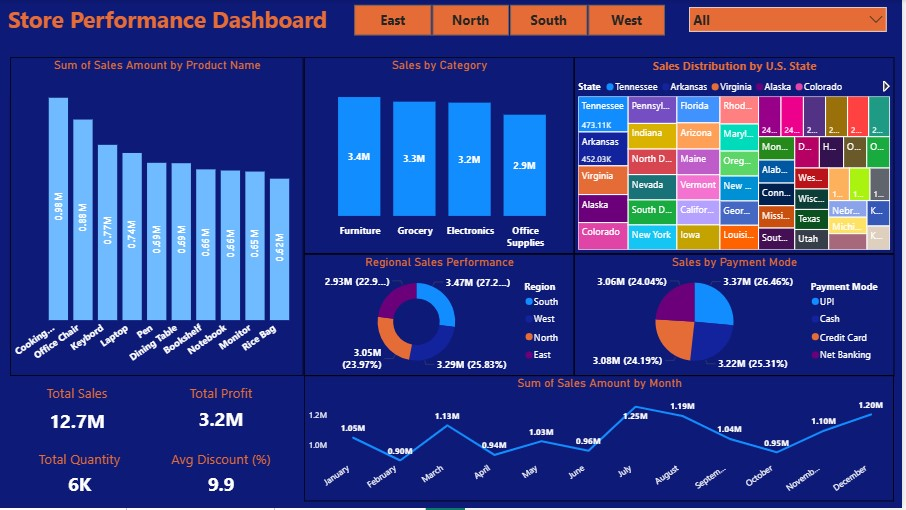

Layout of this report page (visuals, bound fields, positions):
{"tool":"powerbi","page":{"name":"Store Performance","canvas":[1280,720],"ordinal":0},"visuals":[{"type":"textbox","box":[0,0,477.6,56.7],"z":3000},{"type":"slicer","fields":{"Values":["Store_Management_System.Region"]},"box":[477.6,0,490.4,56.7],"z":4000},{"type":"slicer","fields":{"Values":["Store_Management_System.Delivery Status"]},"box":[968,0,300.5,58.1],"z":5000},{"type":"clusteredColumnChart","title":"Sales by Category","fields":{"Category":["Store_Management_System.Category"],"Y":["Sum(Store_Management_System.Sales Amount)"]},"box":[432.3,80.8,382.7,279.2],"z":6000},{"type":"treemap","title":"Sales Distribution by U.S. State","fields":{"Group":["Store_Management_System.State"],"Values":["Sum(Store_Management_System.Sales Amount)"]},"box":[815,80.8,453.5,279.2],"z":7000},{"type":"pieChart","title":"Sales by Payment Mode","fields":{"Category":["Store_Management_System.Payment Mode"],"Y":["Sum(Store_Management_System.Sales Amount)"]},"box":[815,360,453.5,172.9],"z":8000},{"type":"donutChart","title":"Regional Sales Performance","fields":{"Category":["Store_Management_System.Region"],"Y":["Sum(Store_Management_System.Sales Amount)"]},"box":[432.3,360,382.7,172.9],"z":9000},{"type":"lineChart","fields":{"Category":["Store_Management_System.Order Date.Variation.Date Hierarchy.Month"],"Y":["Sum(Store_Management_System.Sales Amount)"]},"box":[432.3,531.5,836.2,178.6],"z":10000},{"type":"clusteredColumnChart","fields":{"Category":["Store_Management_System.Product Name"],"Y":["Sum(Store_Management_System.Sales Amount)"]},"box":[15.7,80.1,416.2,451.9],"z":11000},{"type":"card","title":"Total Sales","fields":{"Values":["Sum(Store_Management_System.Sales Amount)"]},"box":[15.6,544.3,189.9,80.8],"z":12000},{"type":"card","title":"Total Profit","fields":{"Values":["Sum(Store_Management_System.Profit)"]},"box":[215.4,544.3,198.4,76.5],"z":13000},{"type":"card","title":"Total Quantity","fields":{"Values":["Sum(Store_Management_System.Quantity)"]},"box":[0,637.8,228.2,72.3],"z":14000},{"type":"card","title":"Avg Discount (%)","fields":{"Values":["Avg(Store_Management_System.Discount (%))"]},"box":[215.4,637.8,198.4,72.3],"z":15000}]}

Visuals, with their boxes in screenshot pixels (x1, y1, x2, y2), scaled from the page's 1280x720 canvas onto the 906x510 screenshot:
textbox: bbox=(0, 0, 338, 40)
slicer - Store_Management_System.Region: bbox=(338, 0, 685, 40)
slicer - Store_Management_System.Delivery Status: bbox=(685, 0, 898, 41)
"Sales by Category" clusteredColumnChart: bbox=(306, 57, 577, 255)
"Sales Distribution by U.S. State" treemap: bbox=(577, 57, 898, 255)
"Sales by Payment Mode" pieChart: bbox=(577, 255, 898, 377)
"Regional Sales Performance" donutChart: bbox=(306, 255, 577, 377)
lineChart - Store_Management_System.Order Date.Variation.Date Hierarchy.Month x Sum(Store_Management_System.Sales Amount): bbox=(306, 376, 898, 503)
clusteredColumnChart - Store_Management_System.Product Name x Sum(Store_Management_System.Sales Amount): bbox=(11, 57, 306, 377)
"Total Sales" card: bbox=(11, 386, 145, 443)
"Total Profit" card: bbox=(152, 386, 293, 440)
"Total Quantity" card: bbox=(0, 452, 162, 503)
"Avg Discount (%)" card: bbox=(152, 452, 293, 503)
